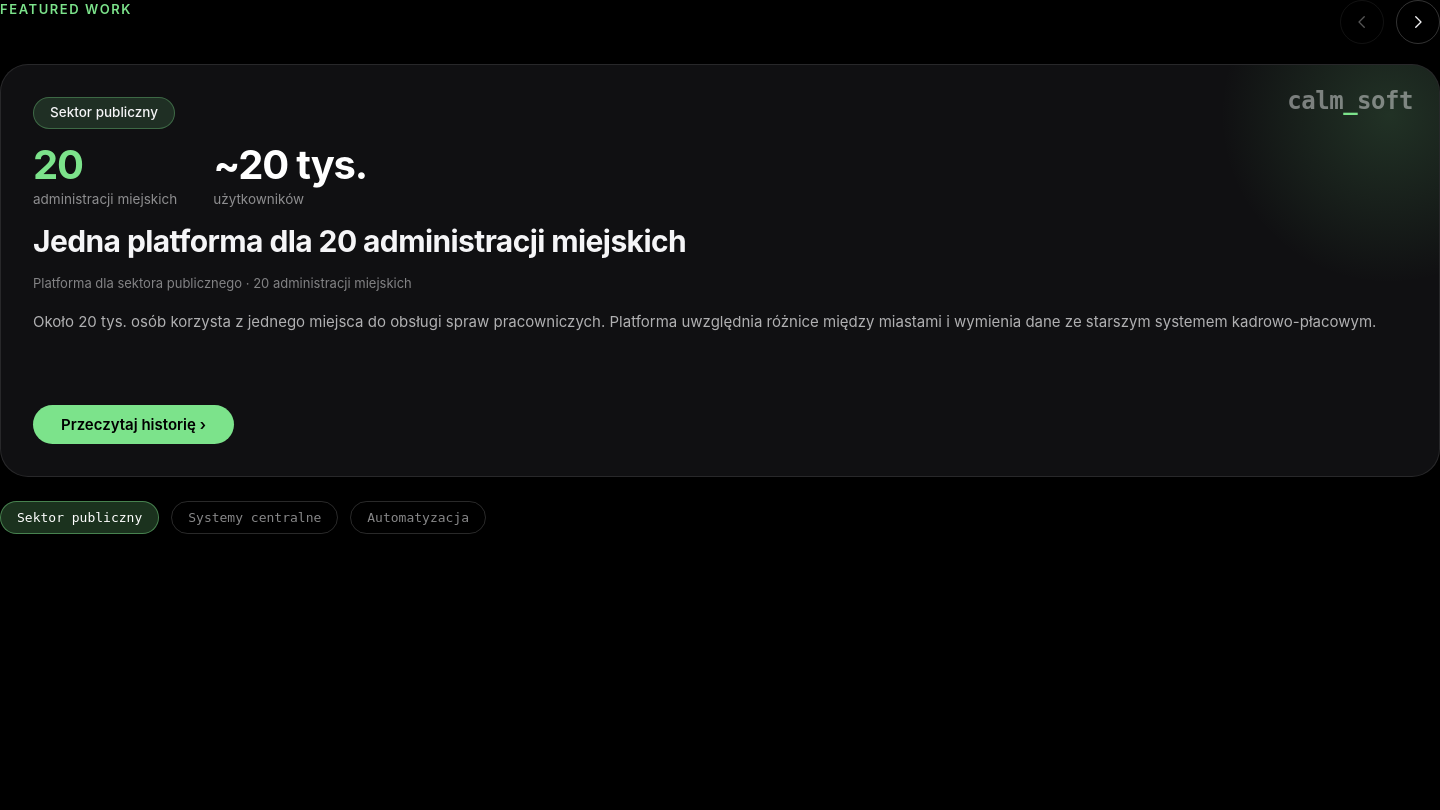
HeroCaseSlider › opens the correct case's modal after navigating to a later slide
The width and height of the screenshot is (1440, 810).
Click the button named "Następna realizacja".
click(1418, 22)  # box top-left (1396, 0), bottom-right (1439, 44)
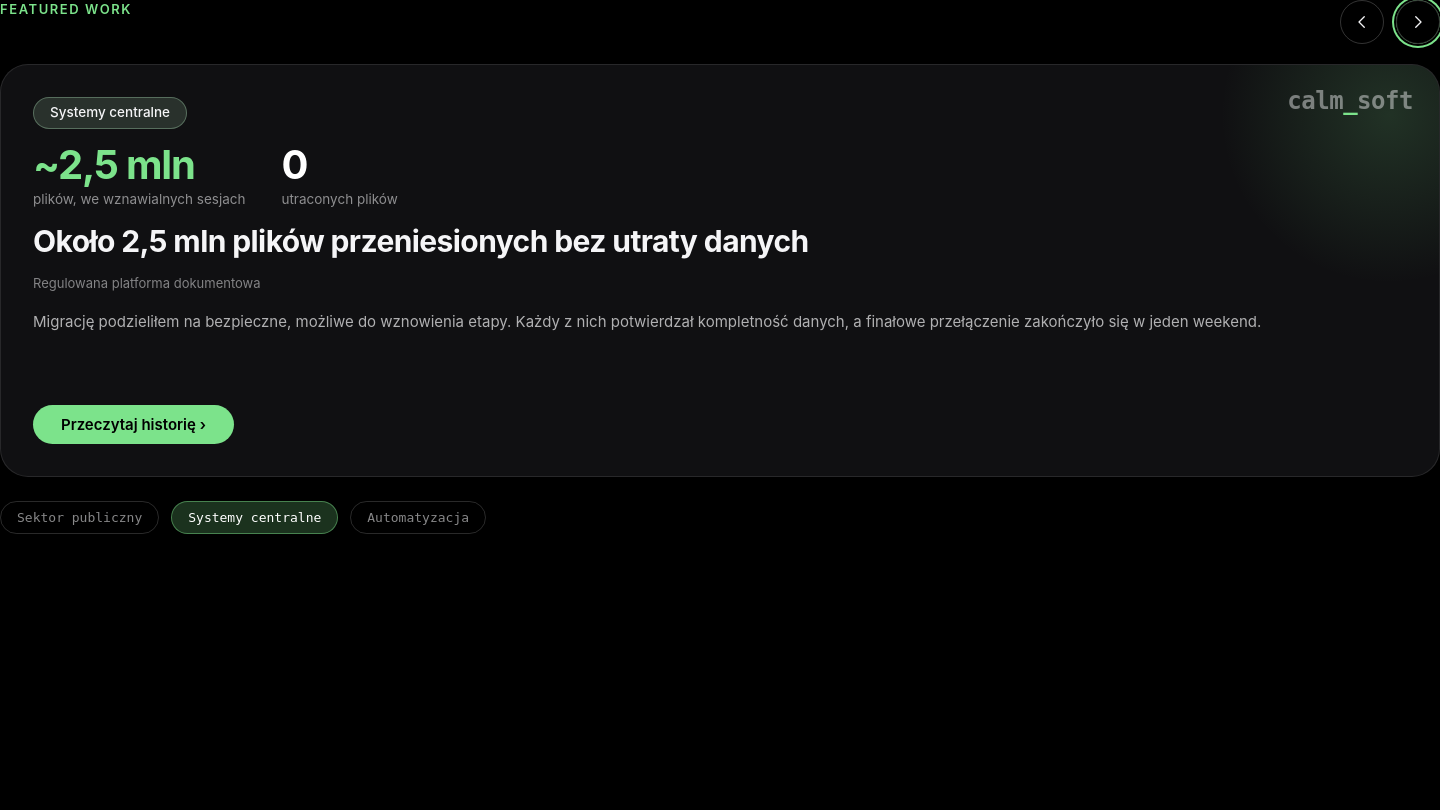
Click the button "Przeczytaj historię ›".
click(133, 425)  # box top-left (33, 405), bottom-right (234, 444)
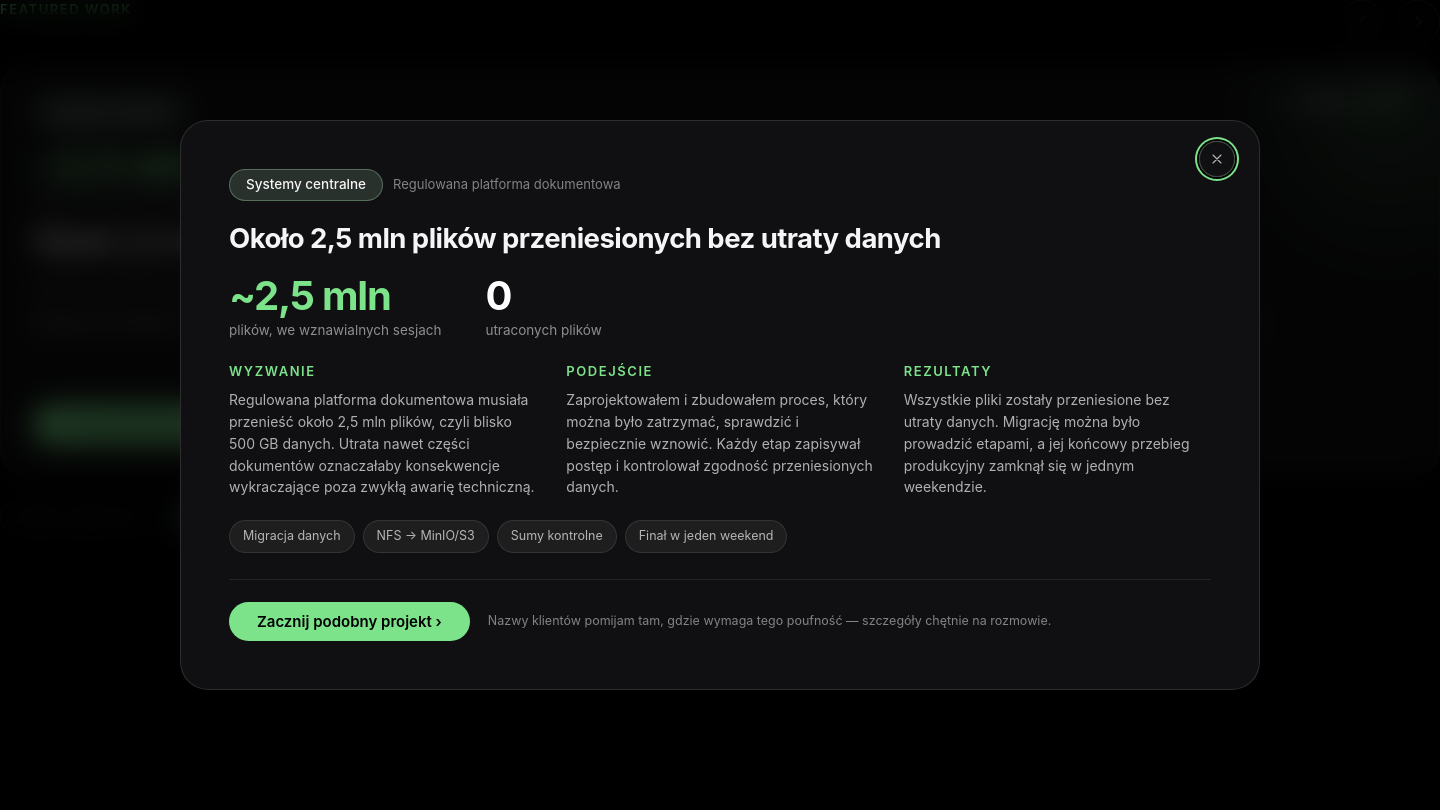
Now the heading "Około 2,5 mln plików przeniesionych bez utraty danych" is shown, box top-left (229, 221), bottom-right (941, 255)
